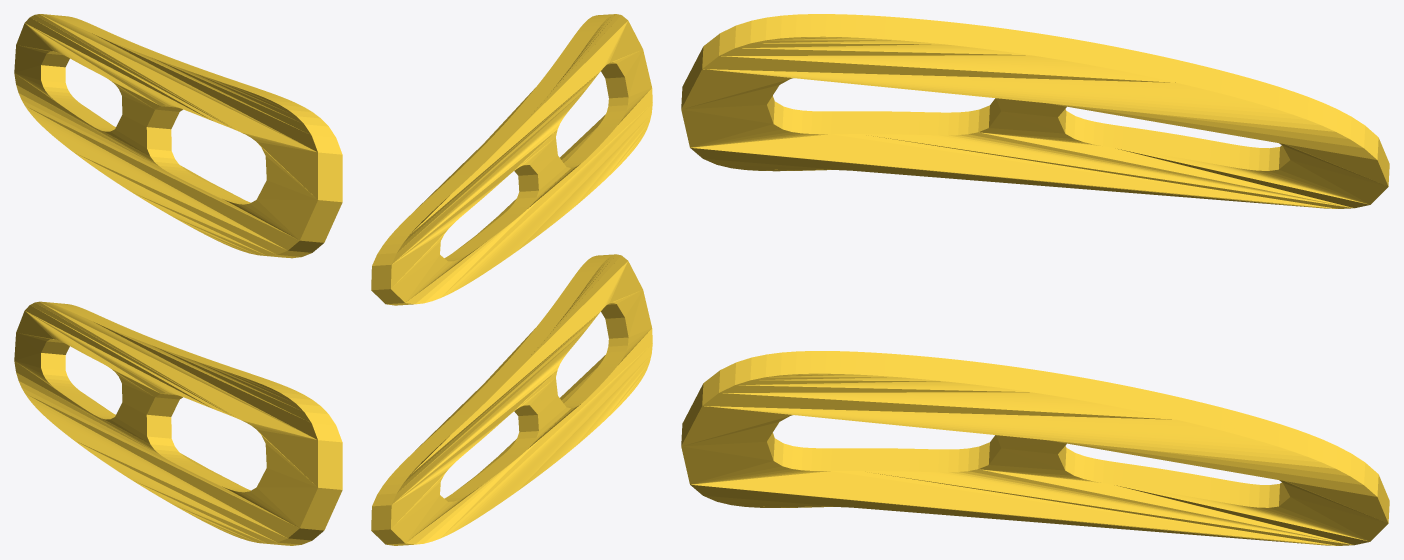
Rendered from hairpin.glb.
The picture shows the model from 3 angles, left to right: view 1: azimuth 30°, elevation 25°; view 2: azimuth 150°, elevation 25°; view 3: azimuth 270°, elevation 25°; orthographic projection. The views are drawn at different scales.
Visible parts, largest first — view 1: clip_0, clip_1; view 2: clip_0, clip_1; view 3: clip_1, clip_0.
Boxes of the visible parts, x1,y1,x2,y2 form: clip_0: [14, 301, 342, 545]; clip_1: [14, 14, 342, 258]; clip_0: [371, 254, 652, 545]; clip_1: [371, 14, 652, 305]; clip_1: [681, 14, 1389, 208]; clip_0: [681, 351, 1389, 545].
Size of the model in its own units: 0.00751 by 0.0379 by 0.0457.
